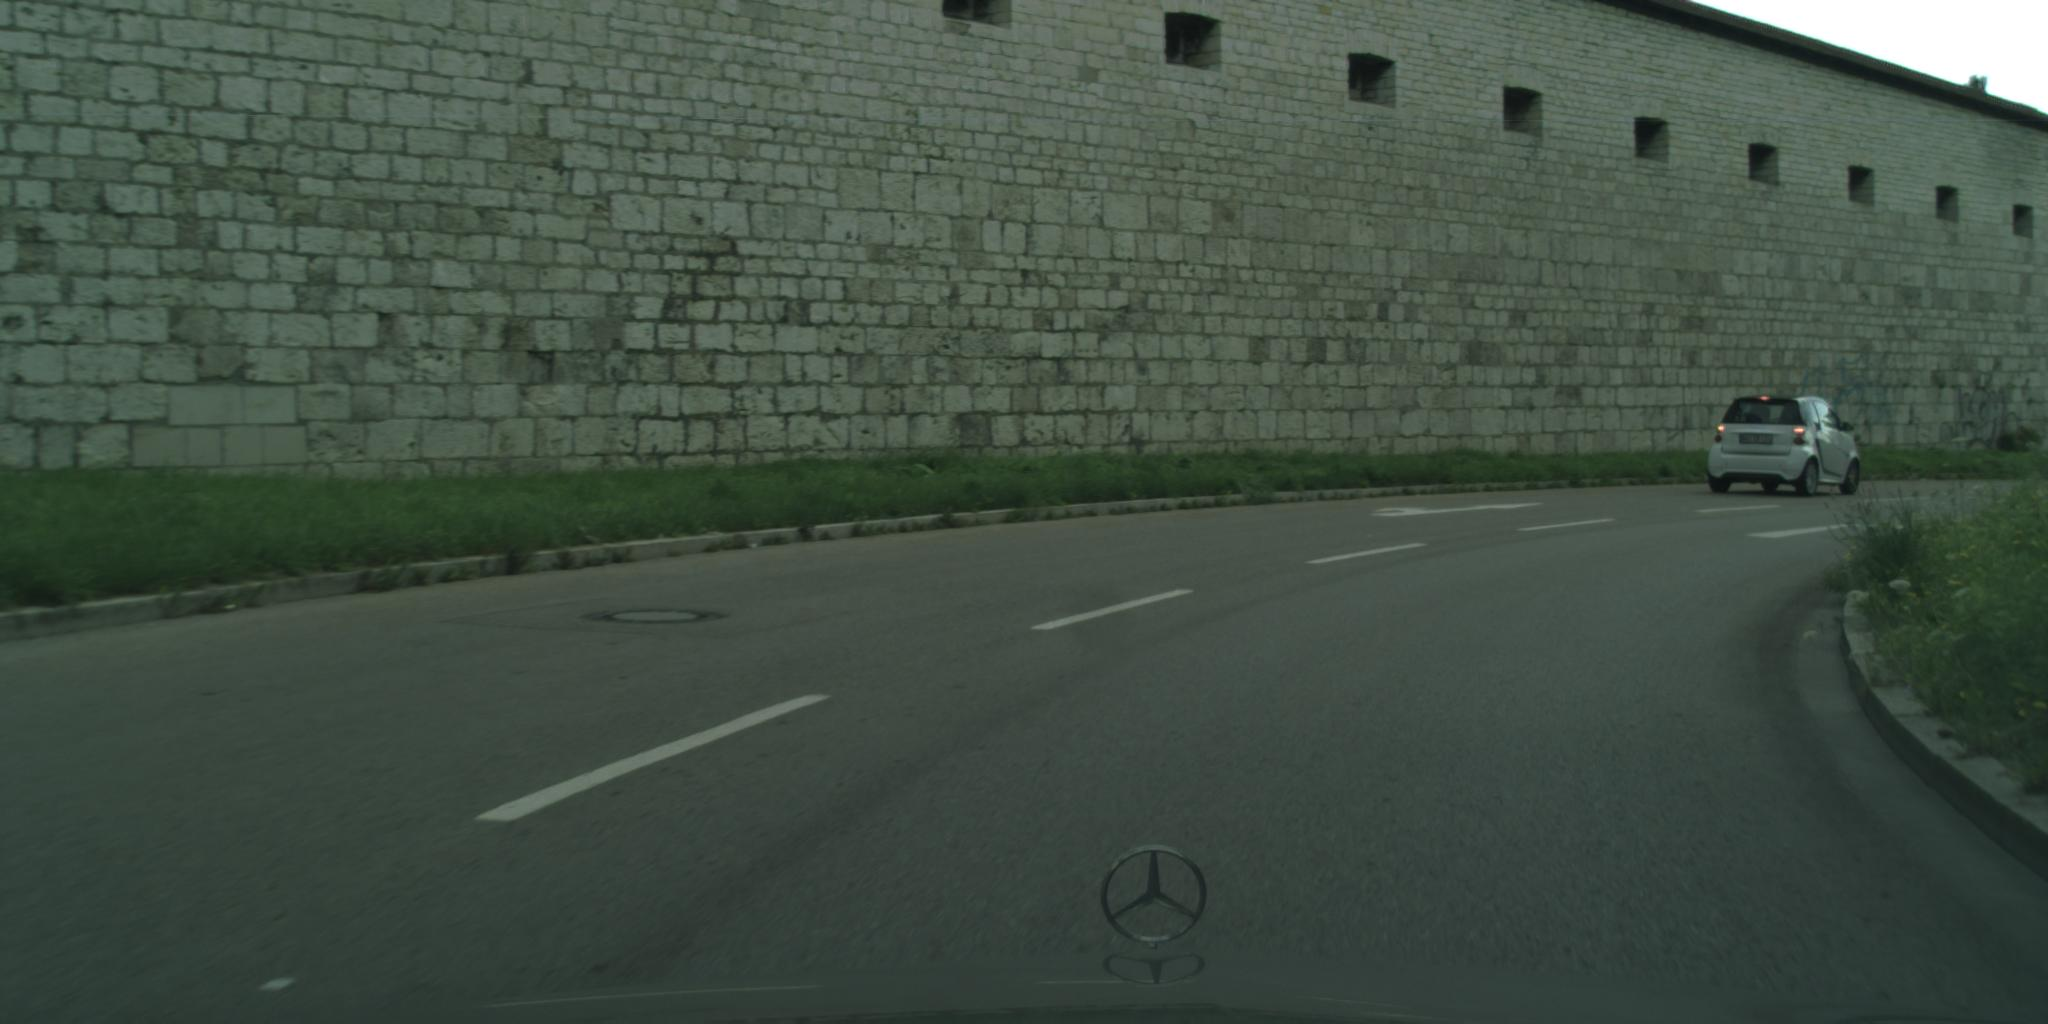car: (1708, 397, 1863, 498)
